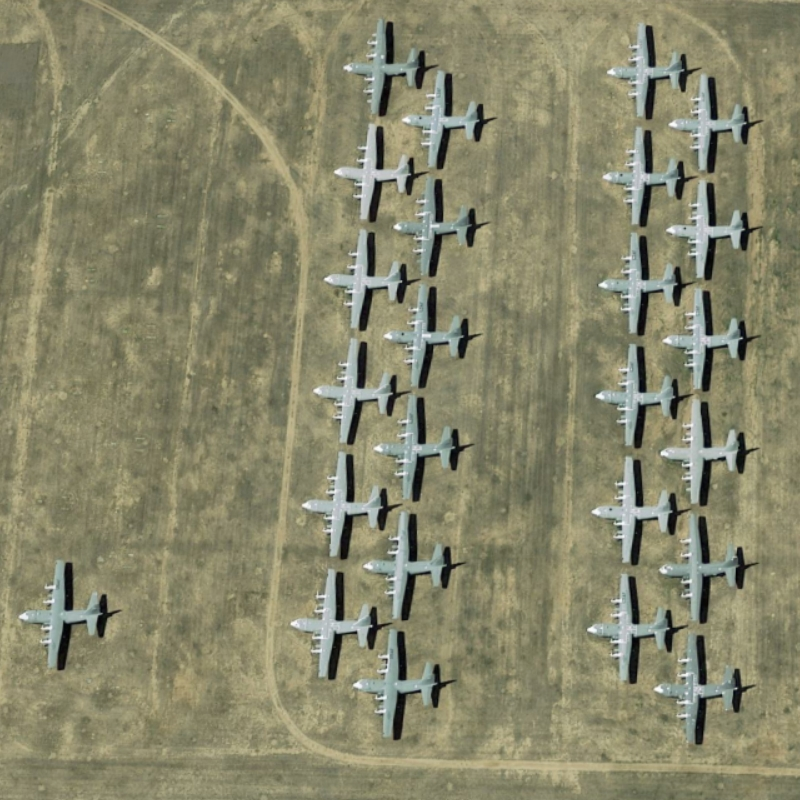A2: (14, 549, 122, 678), (646, 631, 756, 752), (350, 629, 457, 744), (575, 453, 680, 570), (363, 505, 467, 623), (584, 337, 682, 452), (370, 389, 467, 504), (583, 566, 677, 684), (654, 512, 749, 628), (381, 281, 481, 389), (292, 565, 383, 683), (300, 452, 398, 561), (660, 178, 759, 285), (320, 222, 412, 336), (659, 396, 750, 507), (663, 285, 754, 393), (606, 14, 694, 124), (593, 232, 685, 337), (393, 173, 481, 280), (345, 11, 429, 123), (668, 72, 756, 178), (399, 68, 488, 172), (312, 335, 396, 445), (598, 128, 690, 228), (336, 122, 416, 227)
